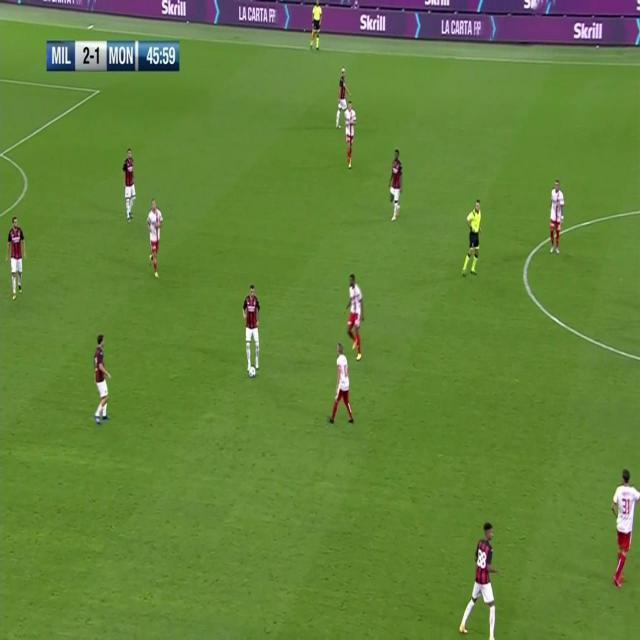ball: (249, 366, 257, 380)
player: (459, 519, 503, 640), (610, 463, 640, 591), (91, 333, 114, 426), (330, 342, 355, 424), (344, 272, 366, 364), (242, 282, 263, 368), (7, 213, 27, 303), (146, 196, 164, 280), (547, 178, 566, 257), (121, 146, 138, 224), (387, 147, 404, 224), (334, 67, 349, 130), (344, 100, 357, 170)
referee: (460, 198, 483, 278), (308, 0, 322, 52)
